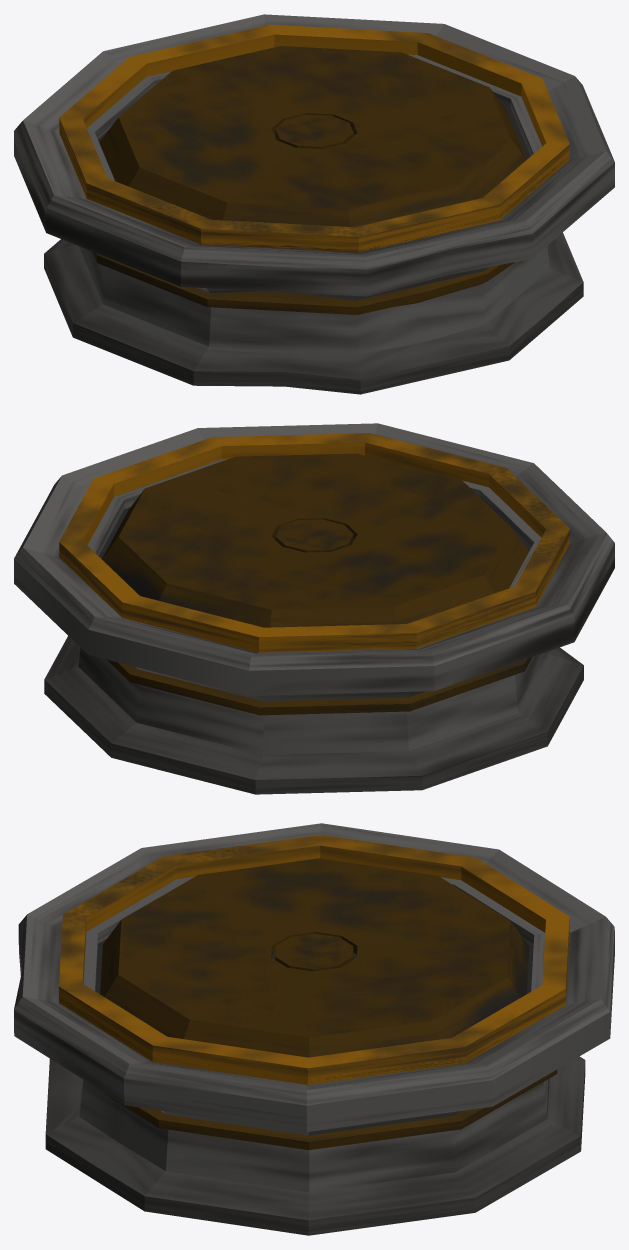
File: BattleScene_Stage2_Asset.fbx
The picture shows the model from 3 angles, top to bottom: view 1: azimuth 30°, elevation 25°; view 2: azimuth 150°, elevation 25°; view 3: azimuth 270°, elevation 25°; orthographic projection. The views are drawn at different scales.
Parts seen in each view (by area): view 1: BattleStage2_Asset; view 2: BattleStage2_Asset; view 3: BattleStage2_Asset.
Boxes of the visible parts, x1,y1,x2,y2 form: BattleStage2_Asset: [14, 14, 614, 394]; BattleStage2_Asset: [14, 423, 614, 794]; BattleStage2_Asset: [14, 823, 614, 1235].
Size of the model in its own units: 28.94 by 8.25 by 26.86.
